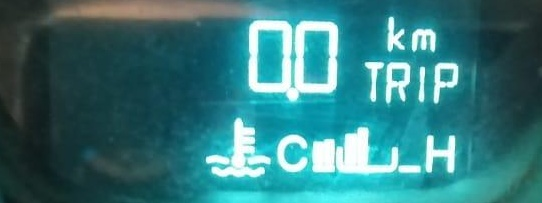-: (285, 87, 298, 103)
0: (242, 15, 291, 94), (293, 15, 339, 94)
X: (420, 130, 458, 175), (273, 129, 310, 174), (429, 58, 461, 104), (383, 59, 411, 103), (359, 56, 384, 102), (381, 12, 405, 52), (409, 25, 437, 52), (413, 60, 429, 103)
